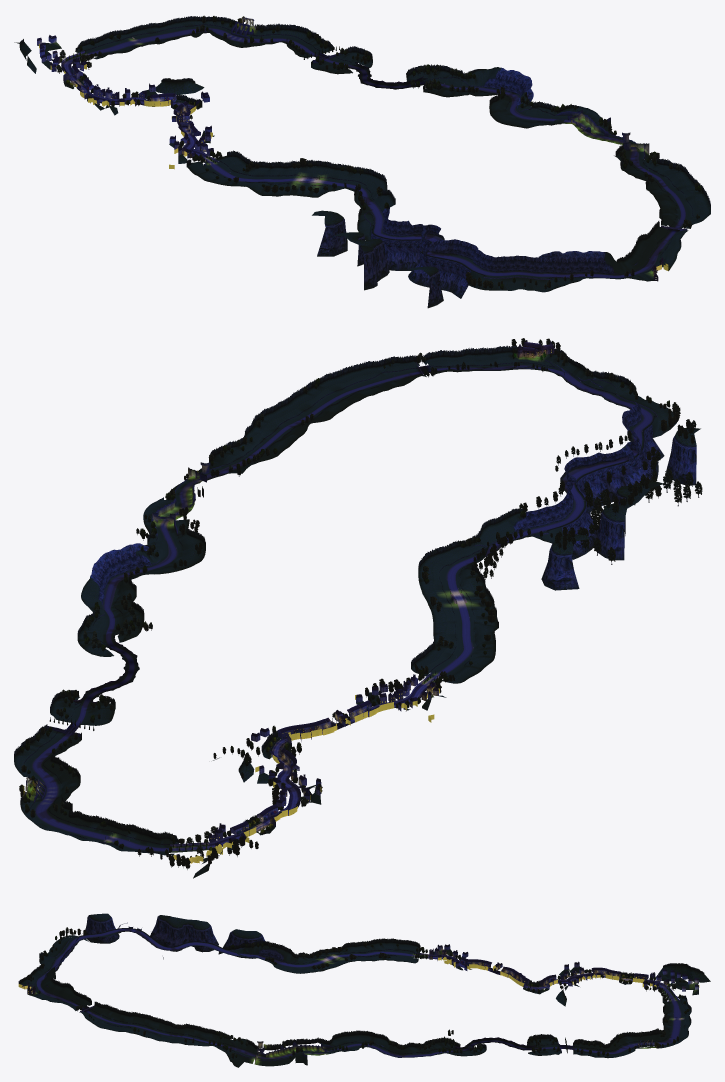
Rendered from france-night.glb.
3 renders of one model, top to bottom at view 1: azimuth 30°, elevation 25°; view 2: azimuth 150°, elevation 25°; view 3: azimuth 270°, elevation 25°, orthographic. The views are drawn at different scales.
Visible parts, largest first — view 1: static_objects, segment_45, segment_15, segment_52, segment_51, segment_55, segment_58, segment_33, segment_46, segment_53, segment_34, segment_54 (+22 smaller); view 2: static_objects, segment_99, segment_49, segment_32, segment_63, segment_35; view 3: static_objects, segment_5, segment_86, segment_81, segment_4, segment_84, segment_91, segment_38, segment_28, segment_29, segment_27, segment_82 (+13 smaller).
Boxes of the visible parts, left/top/right/bottom form: static_objects: left=66, top=51, right=443, bottom=308; segment_45: left=375, top=220, right=409, bottom=270; segment_15: left=155, top=78, right=204, bottom=108; segment_52: left=427, top=239, right=468, bottom=290; segment_51: left=413, top=239, right=449, bottom=287; segment_55: left=476, top=256, right=511, bottom=290; segment_58: left=542, top=251, right=567, bottom=292; segment_33: left=284, top=158, right=321, bottom=196; segment_46: left=402, top=221, right=429, bottom=270; segment_53: left=447, top=243, right=481, bottom=294; segment_34: left=306, top=161, right=341, bottom=197; segment_54: left=454, top=252, right=491, bottom=298; static_objects: left=105, top=428, right=700, bottom=851; segment_99: left=77, top=616, right=141, bottom=642; segment_49: left=583, top=451, right=622, bottom=502; segment_32: left=429, top=601, right=496, bottom=622; segment_63: left=517, top=340, right=560, bottom=370; segment_35: left=418, top=568, right=485, bottom=587; static_objects: left=85, top=913, right=676, bottom=1000; segment_5: left=652, top=963, right=710, bottom=991; segment_86: left=282, top=1038, right=317, bottom=1065; segment_81: left=229, top=1039, right=254, bottom=1065; segment_4: left=659, top=977, right=698, bottom=997; segment_84: left=263, top=1043, right=291, bottom=1065; segment_91: left=348, top=1030, right=374, bottom=1048; segment_38: left=267, top=943, right=289, bottom=967; segment_28: left=381, top=938, right=398, bottom=961; segment_29: left=361, top=938, right=387, bottom=960; segment_27: left=396, top=939, right=412, bottom=962; segment_82: left=235, top=1041, right=264, bottom=1067.
Size of the model in its own units: 841 by 224 by 1894.
Materials: 171 (171 with a texture image).
